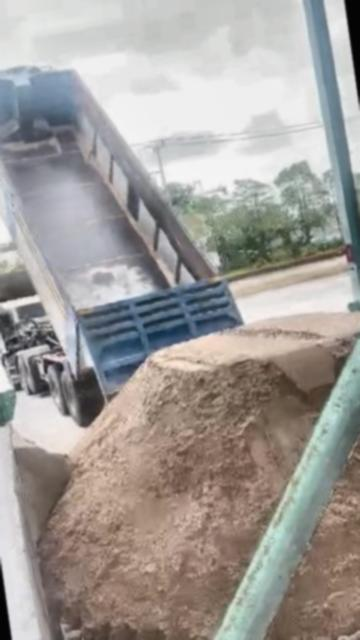sand: (42, 314, 360, 640), (269, 376, 360, 640), (13, 434, 69, 550)
